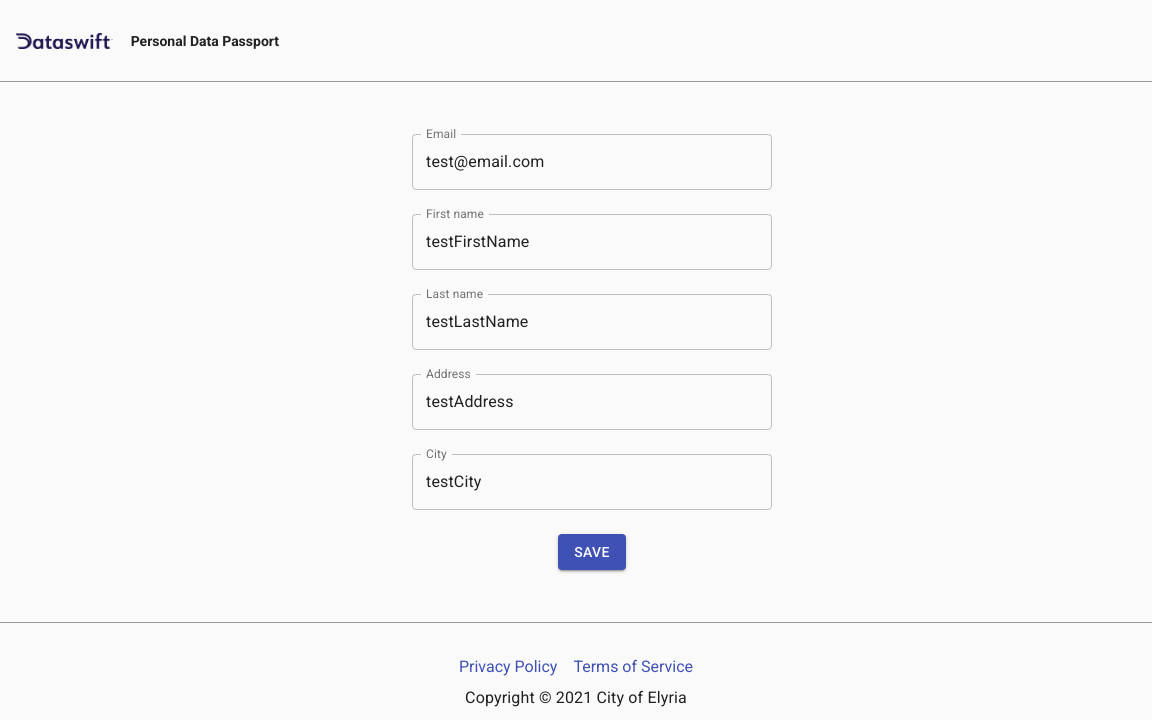
it: Customer Details Page › updates the profile without error
This screenshot has width=1152, height=720.
Replace the text in the field labelled "Email" with "updatedTest@email.com" at (592, 162), box [412,134,772,190]
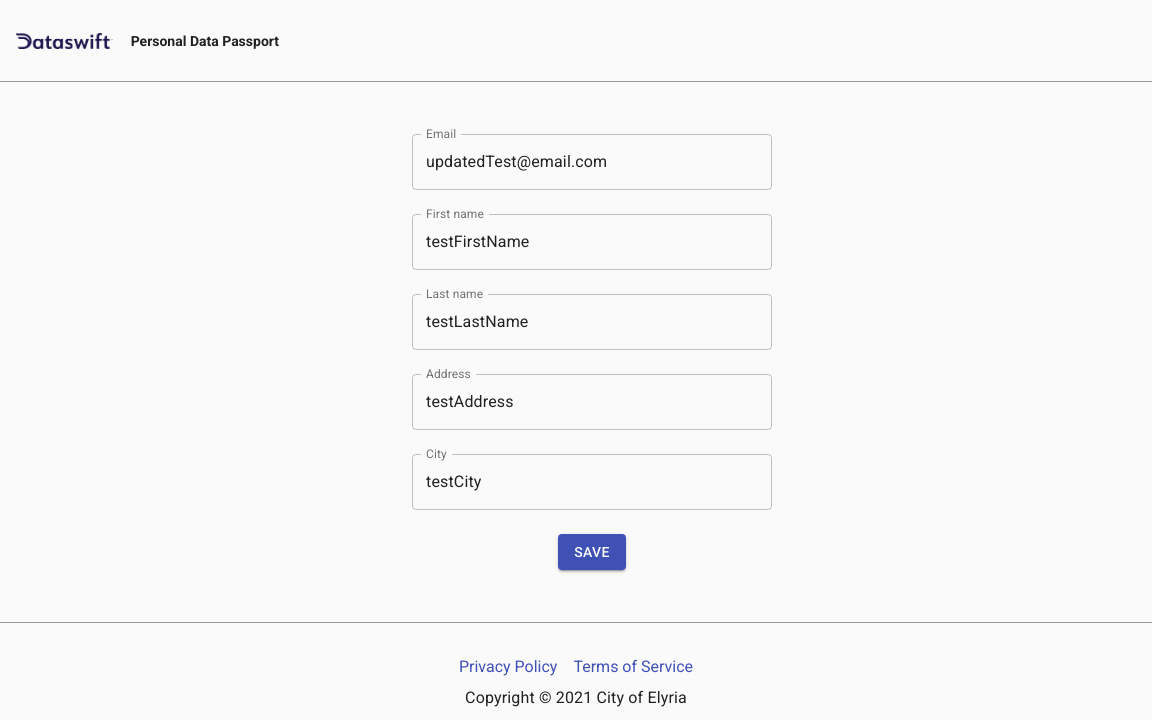
Replace the text in the field labelled "Last name" with "updatedTestLastName" at (592, 322), box [412,294,772,350]
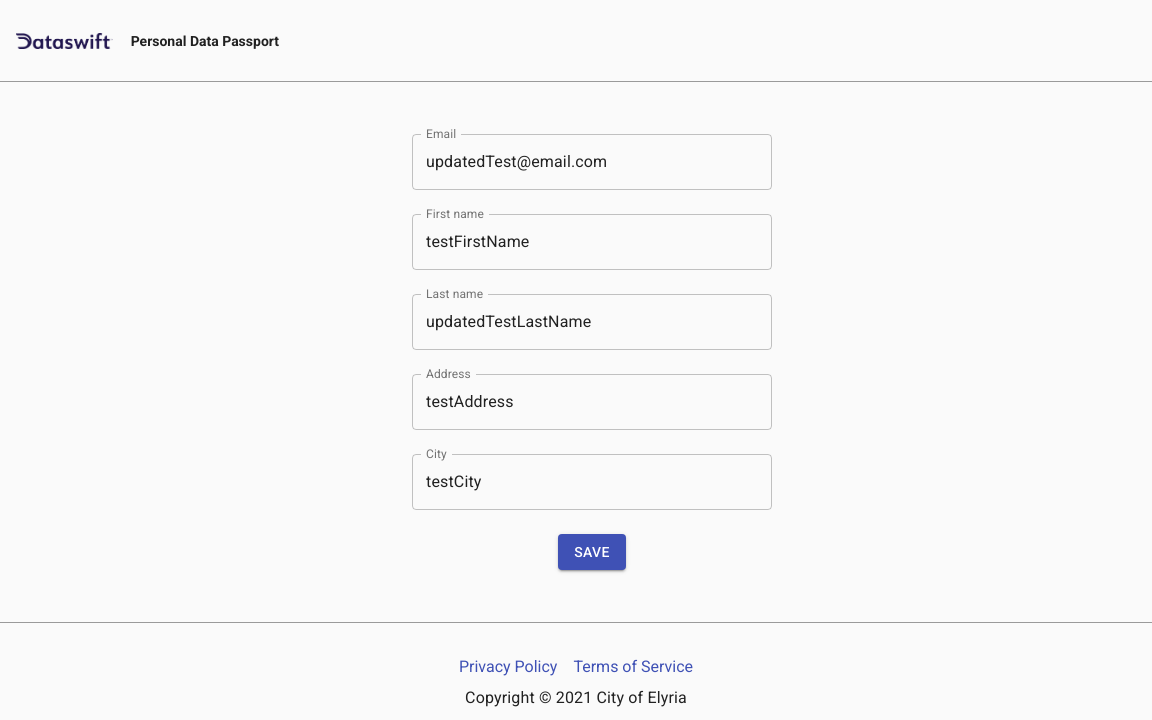
Click the button "Save".
click(592, 552)  # box [558,534,626,570]
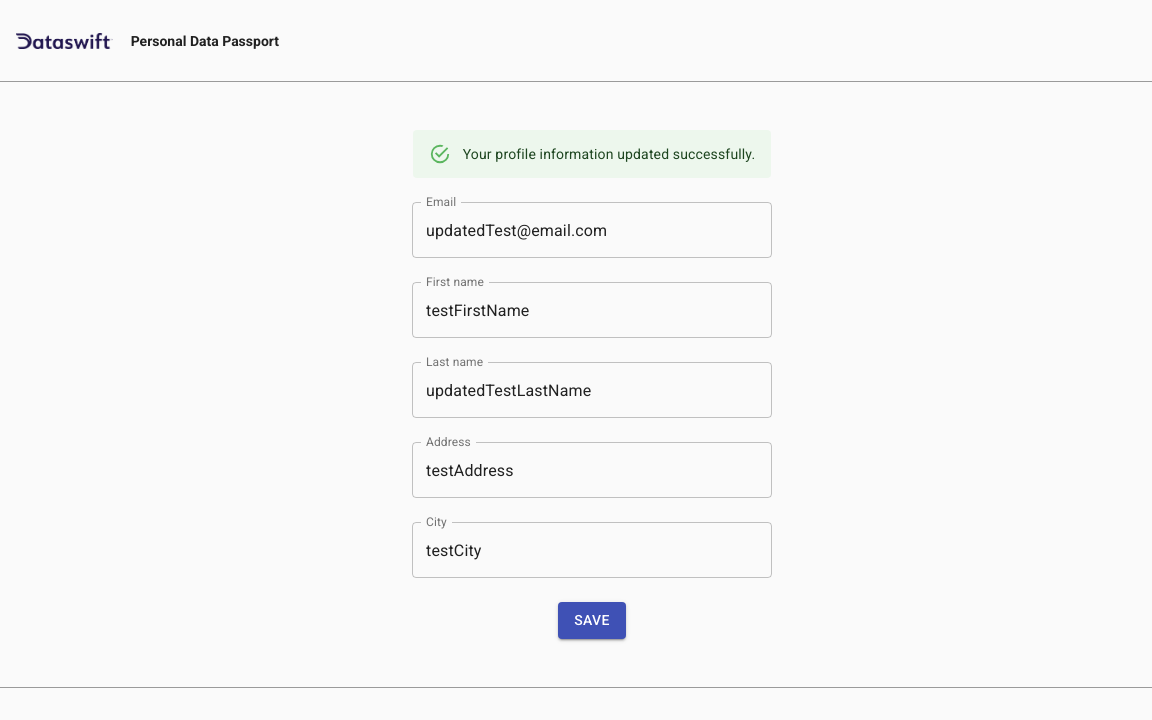
Expected: the text "Your profile information updated successfully." is shown, [463,146,755,162]
